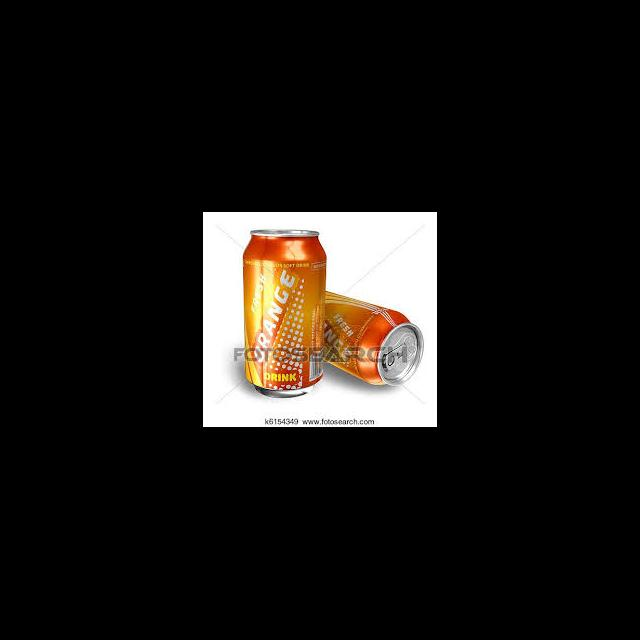metal: (242, 230, 325, 397), (325, 290, 423, 384)
